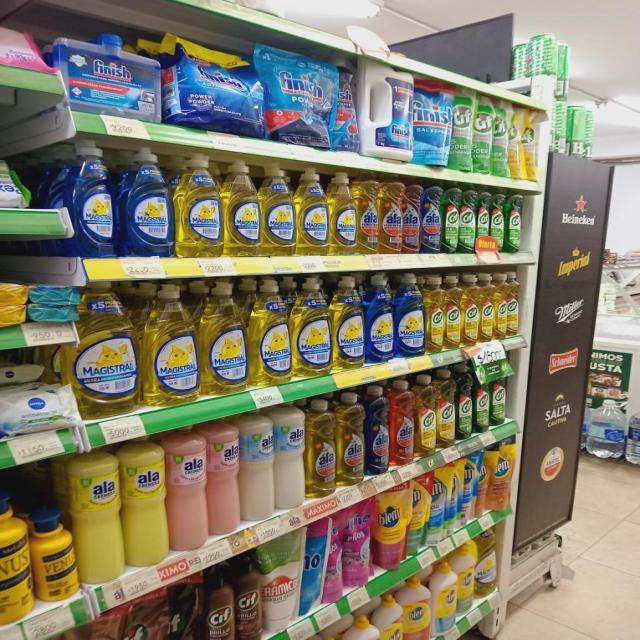ala_conc_amarillo: (307, 398, 336, 499), (337, 391, 364, 485), (379, 180, 402, 254), (356, 177, 378, 254)
ala_conc_azul: (366, 385, 389, 476), (422, 183, 442, 254)
ala_conc_rojo: (390, 379, 414, 466), (402, 182, 420, 254)
ala_crem_amarillo: (70, 445, 122, 584), (122, 436, 167, 568)
ala_crem_blanco: (240, 408, 274, 522), (274, 400, 305, 511)
ala_crem_rosado: (167, 425, 207, 553), (207, 418, 240, 538)
cif_conc_bot_amarilla: (436, 368, 456, 448), (416, 374, 436, 454), (426, 275, 444, 353), (462, 273, 479, 346), (445, 274, 461, 350), (480, 273, 494, 342), (495, 272, 508, 340), (507, 272, 520, 337)
cif_conc_botella_verde: (473, 360, 489, 434), (457, 364, 472, 440), (505, 192, 524, 252), (442, 185, 458, 254), (490, 360, 506, 428), (460, 187, 476, 254), (490, 189, 504, 253), (476, 189, 490, 253)
cif_conc_sachet_verde: (450, 90, 472, 172), (473, 94, 492, 174), (492, 98, 508, 177)
magistral_con_amarillo: (66, 284, 139, 418), (142, 283, 198, 405), (200, 280, 248, 394), (175, 152, 222, 258), (250, 278, 290, 386), (291, 276, 331, 376), (223, 158, 260, 257), (261, 164, 295, 256), (332, 275, 364, 369), (296, 168, 328, 255), (328, 172, 356, 255), (476, 530, 498, 595)
magistral_con_azul: (66, 139, 119, 258), (122, 146, 172, 257), (366, 273, 394, 363), (395, 273, 424, 358)
